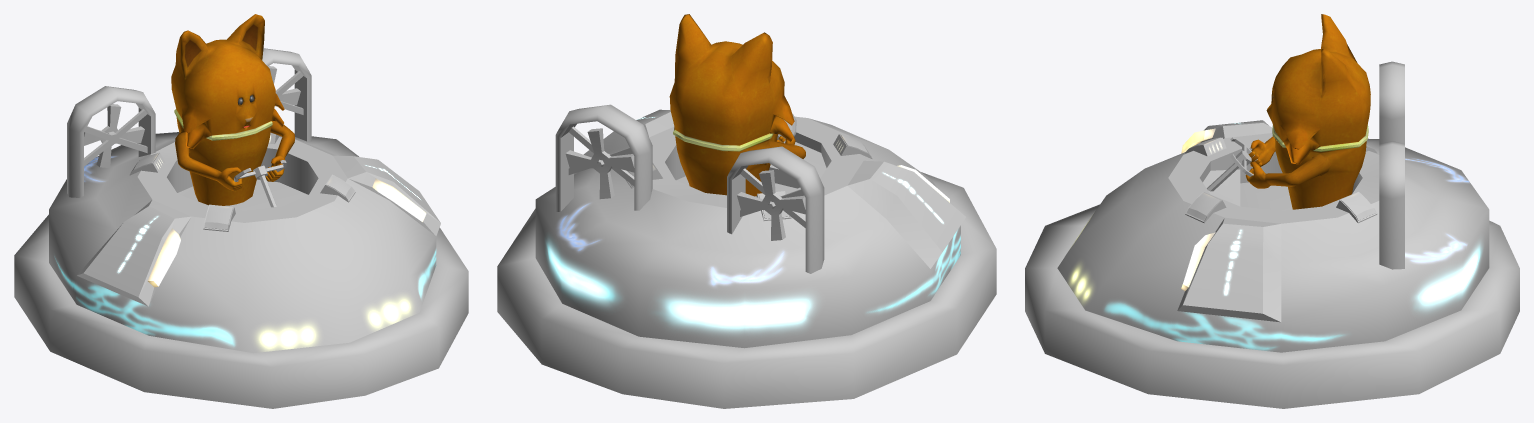
The model's file is Vehicle1.fbx.
The picture shows the model from 3 angles, left to right: view 1: azimuth 30°, elevation 25°; view 2: azimuth 150°, elevation 25°; view 3: azimuth 270°, elevation 25°; orthographic projection. The views are drawn at different scales.
Visible parts, largest first — view 1: Vehicle1_Lowpoly, magnet_Lowpoly, cartoonCat_LowPoly4, turbo_LowPoly2, LowPolyDevice, vehicle_control4, polySurface1, polySurface3; view 2: Vehicle1_Lowpoly, magnet_Lowpoly, cartoonCat_LowPoly4, turbo_LowPoly1, turbo_LowPoly2, LowPolyDevice; view 3: Vehicle1_Lowpoly, magnet_Lowpoly, cartoonCat_LowPoly4, polySurface1, polySurface4, vehicle_control4, LowPolyDevice.
Part boxes in pixels (x1,y1,x2,y2): Vehicle1_Lowpoly: (49, 48, 440, 353); magnet_Lowpoly: (14, 214, 468, 408); cartoonCat_LowPoly4: (171, 14, 294, 205); turbo_LowPoly2: (84, 104, 144, 167); LowPolyDevice: (203, 204, 235, 231); vehicle_control4: (234, 160, 286, 207); polySurface1: (320, 174, 355, 202); polySurface3: (129, 152, 164, 175); Vehicle1_Lowpoly: (535, 104, 965, 348); magnet_Lowpoly: (497, 172, 996, 408); cartoonCat_LowPoly4: (669, 14, 805, 196); turbo_LowPoly1: (565, 128, 634, 199); turbo_LowPoly2: (737, 170, 805, 240); LowPolyDevice: (833, 134, 872, 158); Vehicle1_Lowpoly: (1057, 61, 1489, 352); magnet_Lowpoly: (1025, 204, 1519, 408); cartoonCat_LowPoly4: (1245, 14, 1370, 209); polySurface1: (1185, 191, 1226, 223); polySurface4: (1336, 192, 1377, 223); vehicle_control4: (1207, 137, 1257, 191); LowPolyDevice: (1185, 137, 1226, 156).
Size of the model in its own units: 8.12 by 5.44 by 8.72.
